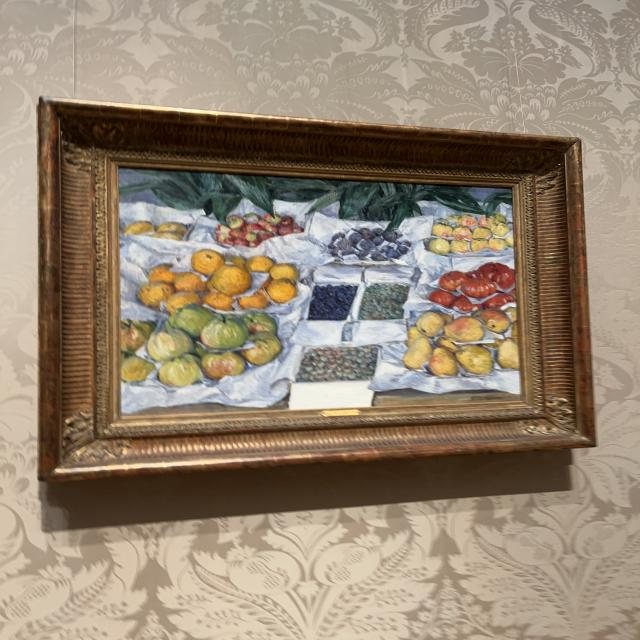fruits: (123, 168, 516, 411)
